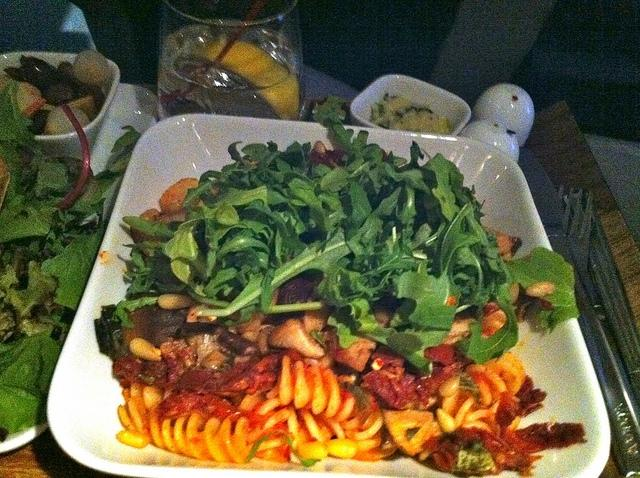corn: (323, 438, 359, 460), (130, 338, 162, 361), (116, 430, 151, 448), (298, 440, 328, 460), (436, 408, 458, 433), (355, 437, 382, 454)
lemon: (192, 41, 299, 120)
lettuce: (196, 229, 378, 332), (392, 199, 486, 332), (0, 78, 69, 243), (504, 246, 580, 332), (40, 219, 110, 312), (1, 332, 62, 436), (454, 282, 520, 364), (284, 174, 348, 253), (0, 248, 57, 319), (420, 152, 460, 223), (162, 218, 208, 278), (107, 125, 143, 177), (464, 272, 506, 311), (244, 200, 289, 236), (112, 296, 159, 330), (124, 250, 156, 297), (36, 230, 64, 267), (222, 251, 259, 274), (210, 222, 247, 240), (216, 204, 240, 226), (90, 198, 106, 226), (214, 178, 240, 190), (16, 269, 29, 290)
